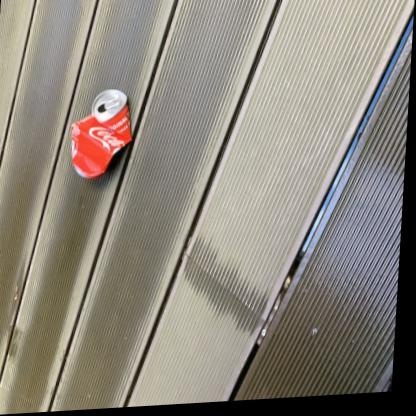trash: (71, 89, 131, 177)
